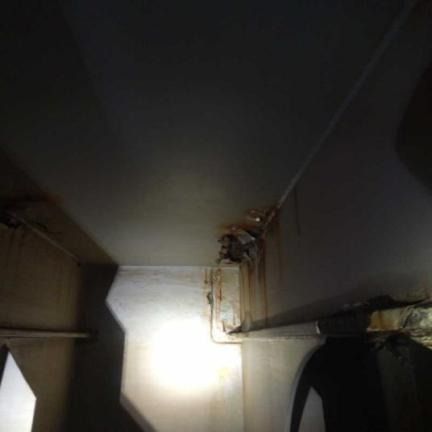besi_tidak_karat: (0, 0, 408, 265), (252, 0, 431, 327), (0, 228, 80, 329), (0, 326, 93, 338)
karat: (207, 267, 240, 344), (217, 226, 257, 263), (0, 210, 21, 228), (246, 209, 266, 223)
